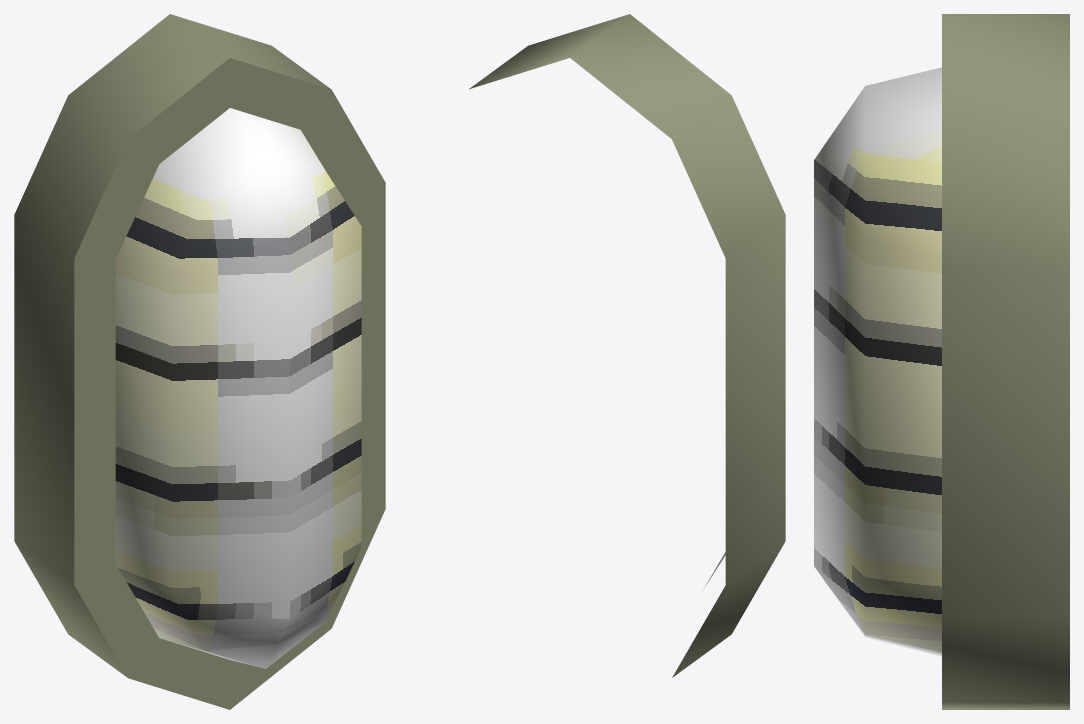
File: M3_WallLight.glb
3 renders of one model, left to right at view 1: azimuth 30°, elevation 25°; view 2: azimuth 150°, elevation 25°; view 3: azimuth 270°, elevation 25°, orthographic. The views are drawn at different scales.
Parts seen in each view (by area): view 1: M3_WALLLIGHT; view 2: M3_WALLLIGHT; view 3: M3_WALLLIGHT.
Boxes of the visible parts, left/top/right/bottom form: M3_WALLLIGHT: left=14, top=14, right=385, bottom=709; M3_WALLLIGHT: left=469, top=14, right=785, bottom=677; M3_WALLLIGHT: left=814, top=14, right=1069, bottom=709.
Size of the model in its own units: 0.15 by 0.3 by 0.1.
2 materials, 2 textured.
